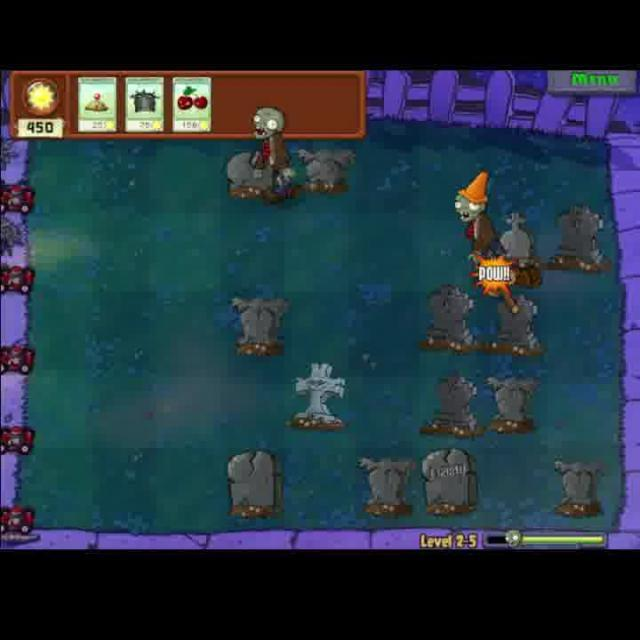zombies: (447, 166, 508, 280), (248, 101, 300, 201)
